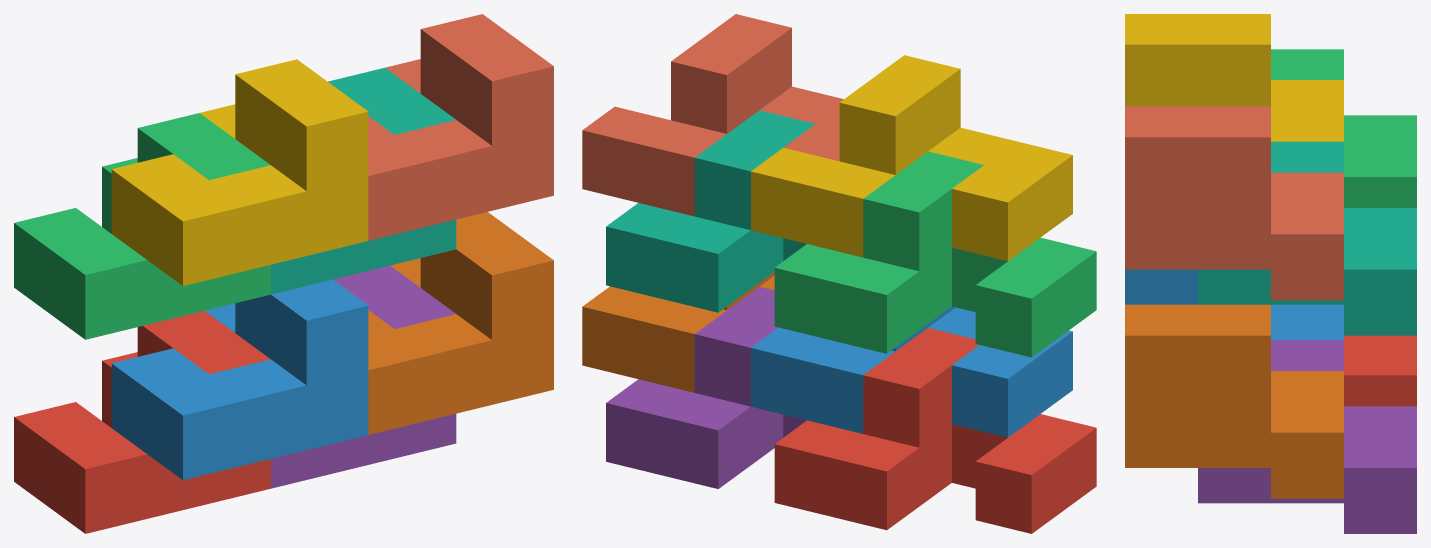
File: tiling.obj
3 renders of one model, left to right at view 1: azimuth 30°, elevation 25°; view 2: azimuth 150°, elevation 25°; view 3: azimuth 270°, elevation 25°, orthographic. The views are drawn at different scales.
Parts seen in each view (by area): view 1: copy_1_domain_4, copy_1_domain_2, copy_1_domain_8, copy_1_domain_6, copy_1_domain_3, copy_1_domain_1, copy_1_domain_7, copy_1_domain_5; view 2: copy_1_domain_3, copy_1_domain_1, copy_1_domain_4, copy_1_domain_8, copy_1_domain_7, copy_1_domain_5, copy_1_domain_2, copy_1_domain_6; view 3: copy_1_domain_8, copy_1_domain_6, copy_1_domain_4, copy_1_domain_5, copy_1_domain_7, copy_1_domain_3, copy_1_domain_1, copy_1_domain_2.
Boxes of the visible parts, x1,y1,x2,y2 form: copy_1_domain_4: (111,59,368,285); copy_1_domain_2: (111,279,368,480); copy_1_domain_8: (368,14,553,240); copy_1_domain_6: (368,212,553,434); copy_1_domain_3: (14,113,270,339); copy_1_domain_1: (14,311,270,533); copy_1_domain_7: (271,67,456,294); copy_1_domain_5: (271,265,456,488); copy_1_domain_3: (774,151,1096,357); copy_1_domain_1: (774,328,1096,533); copy_1_domain_4: (751,55,1072,261); copy_1_domain_8: (582,14,843,216); copy_1_domain_7: (606,110,814,312); copy_1_domain_5: (606,286,806,488); copy_1_domain_2: (751,306,1072,437); copy_1_domain_6: (582,272,774,392); copy_1_domain_8: (1125,106,1343,300); copy_1_domain_6: (1125,304,1343,498); copy_1_domain_4: (1125,14,1343,141); copy_1_domain_5: (1198,340,1416,533); copy_1_domain_7: (1198,141,1416,335); copy_1_domain_3: (1271,49,1416,207); copy_1_domain_1: (1344,335,1416,406); copy_1_domain_2: (1125,269,1343,339).
Size of the model in its own units: 8 by 6 by 4.
